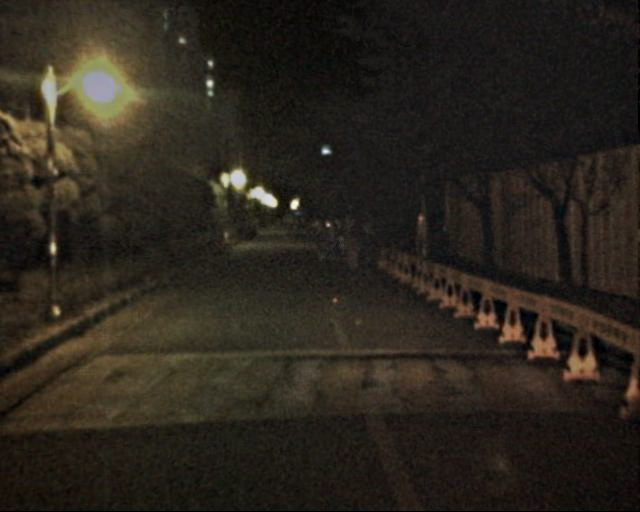person: (355, 220, 379, 278), (341, 225, 362, 276), (338, 216, 356, 261), (310, 218, 328, 262), (324, 218, 342, 261)
